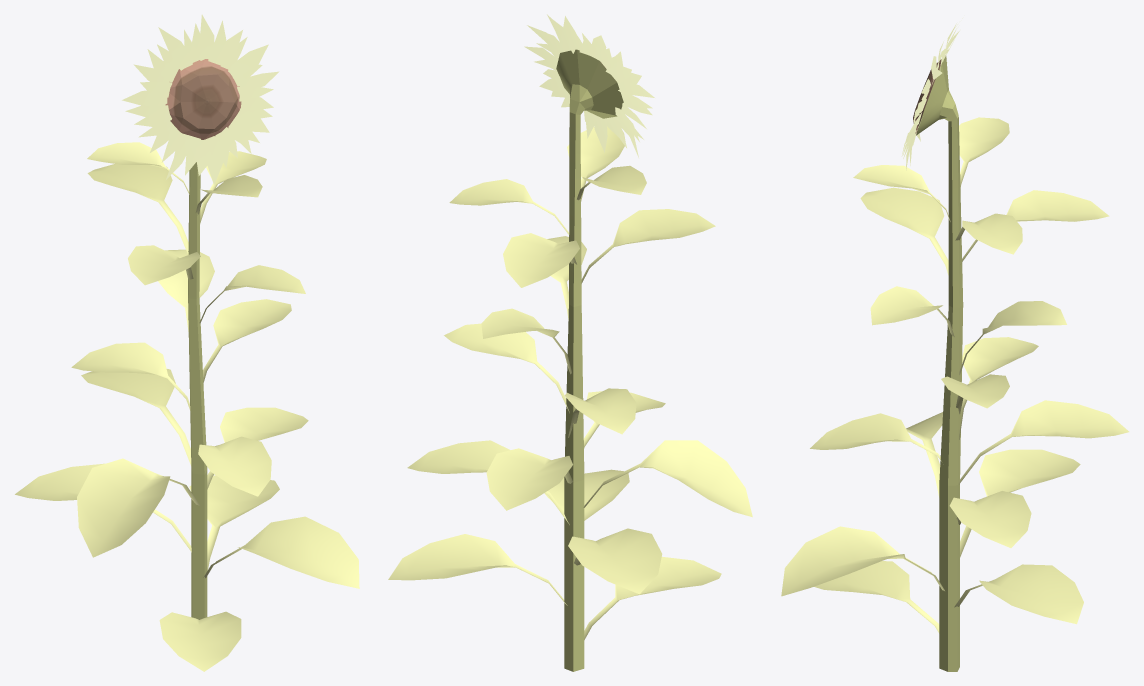
File: Flower_150.glb
The picture shows the model from 3 angles, left to right: view 1: azimuth 30°, elevation 25°; view 2: azimuth 150°, elevation 25°; view 3: azimuth 270°, elevation 25°; orthographic projection. The views are drawn at different scales.
Visible parts, largest first — view 1: SM_Env_Sunflower_01_LOD1; view 2: SM_Env_Sunflower_01_LOD1; view 3: SM_Env_Sunflower_01_LOD1.
Boxes of the visible parts, box(x1,y1,x2,y2) form: SM_Env_Sunflower_01_LOD1: box(15, 14, 359, 671); SM_Env_Sunflower_01_LOD1: box(388, 14, 752, 671); SM_Env_Sunflower_01_LOD1: box(781, 18, 1129, 671).
Bounding box in the file's own units: 0.2108 × 0.4689 × 0.2298.
1 material, 1 textured.
